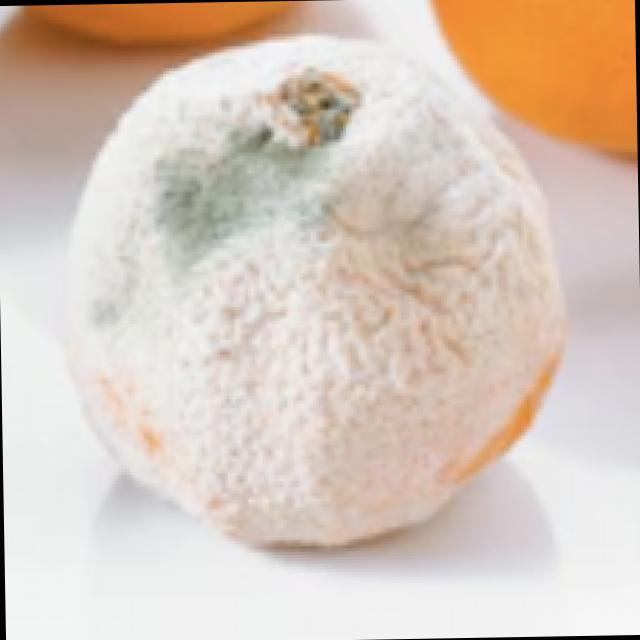rotten-orange: (50, 29, 567, 558)
